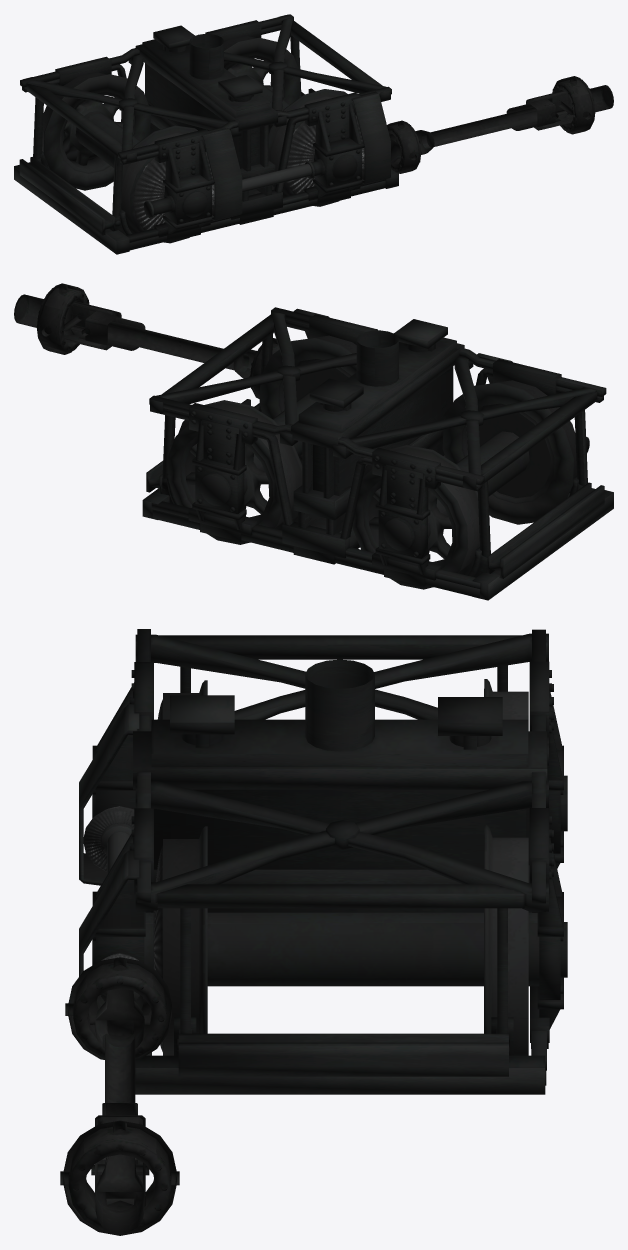
Rendered from tenderbog.obj.
3 views of the same model, one above another, from view 1: azimuth 30°, elevation 25°; view 2: azimuth 150°, elevation 25°; view 3: azimuth 270°, elevation 25° (orthographic). The views are drawn at different scales.
Parts seen in each view (by area): view 1: Cube.1325_Cube.1430, Circle.139_Circle.160, Tube.338_Tube.395, Circle.140_Circle.161, Cylinder.1399_Cylinder.1716; view 2: Cube.1325_Cube.1430, Circle.139_Circle.160, Circle.140_Circle.161, Tube.338_Tube.395; view 3: Cube.1325_Cube.1430, Circle.140_Circle.161, Tube.338_Tube.395, Cylinder.1399_Cylinder.1716, Circle.139_Circle.160.
Boxes of the visible parts, bbox=[...] form: Cube.1325_Cube.1430: bbox=[14, 14, 398, 254]; Circle.139_Circle.160: bbox=[42, 72, 214, 243]; Tube.338_Tube.395: bbox=[387, 76, 613, 173]; Circle.140_Circle.161: bbox=[224, 36, 364, 206]; Cylinder.1399_Cylinder.1716: bbox=[212, 148, 364, 203]; Cube.1325_Cube.1430: bbox=[142, 307, 613, 600]; Circle.139_Circle.160: bbox=[352, 380, 576, 589]; Circle.140_Circle.161: bbox=[167, 335, 356, 544]; Tube.338_Tube.395: bbox=[14, 283, 279, 398]; Cube.1325_Cube.1430: bbox=[79, 629, 567, 1094]; Circle.140_Circle.161: bbox=[144, 825, 539, 1055]; Tube.338_Tube.395: bbox=[60, 957, 179, 1235]; Cylinder.1399_Cylinder.1716: bbox=[83, 806, 139, 1001]; Circle.139_Circle.160: bbox=[157, 679, 528, 730].
Bounding box in the file's own units: 2.55 × 0.7733 × 1.14.
